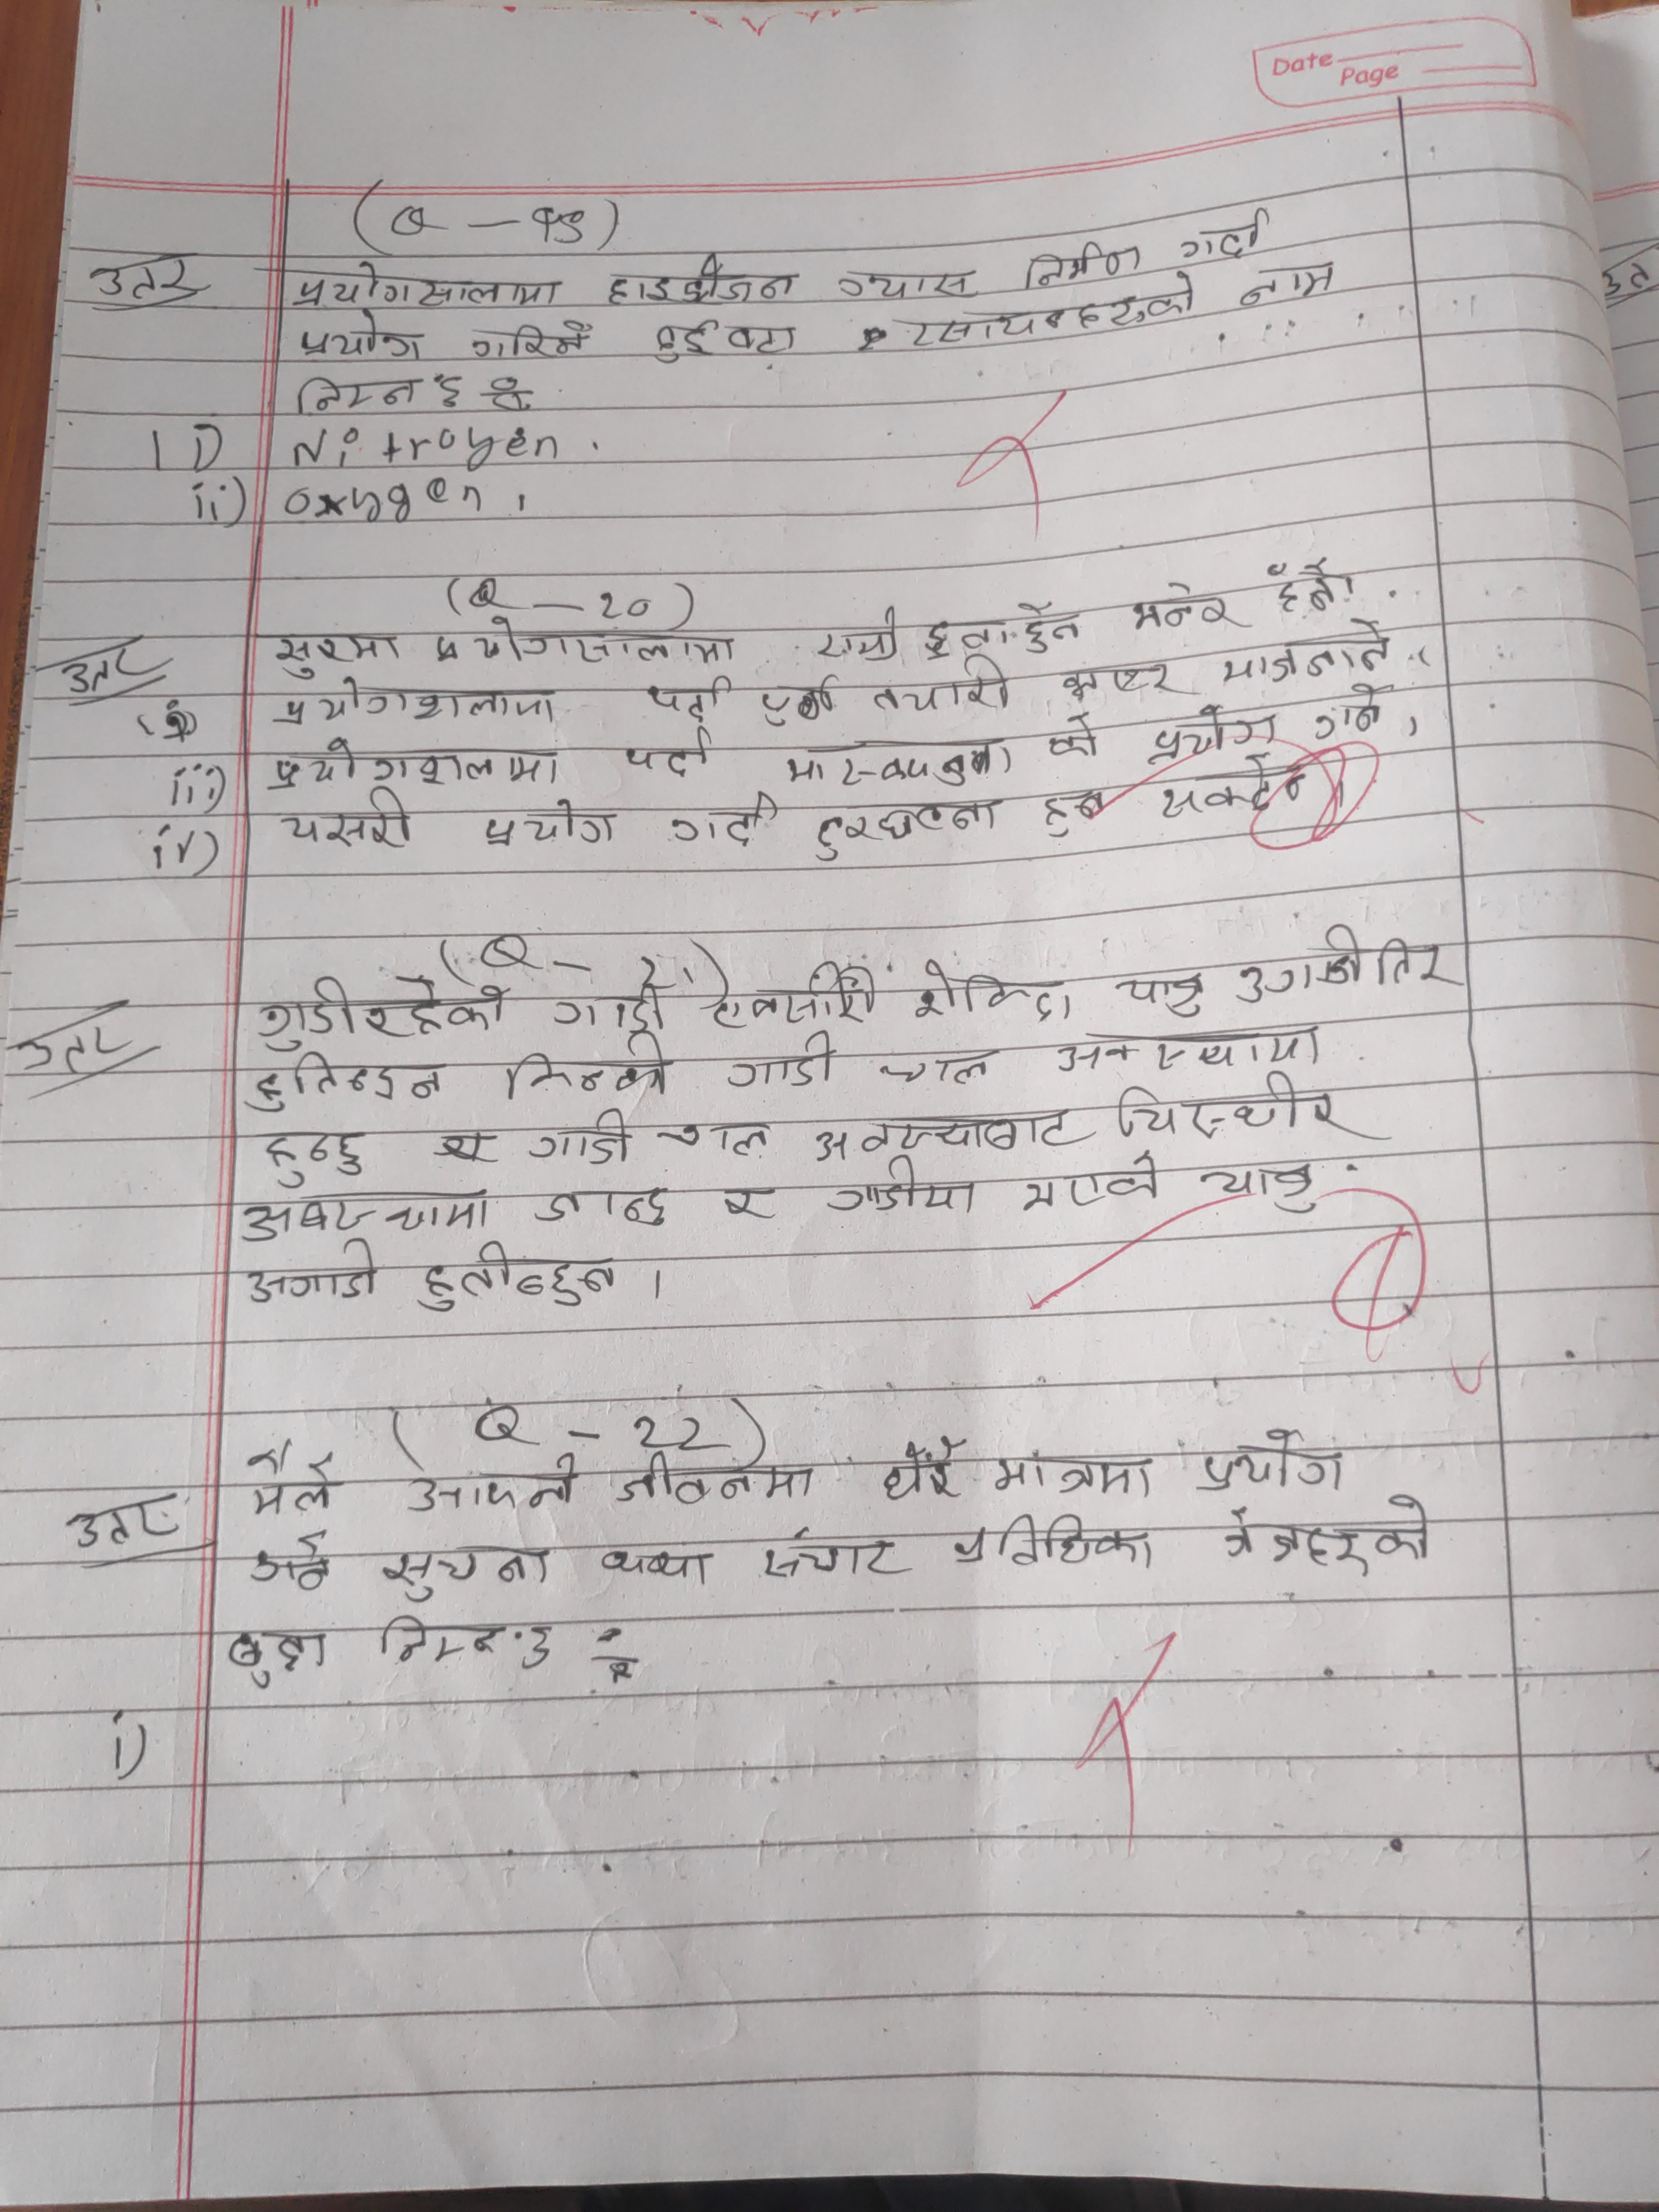text: (256, 974, 505, 1054), (1236, 920, 1464, 1003), (1218, 1491, 1432, 1578), (1114, 1071, 1370, 1143), (892, 298, 1204, 354), (263, 735, 563, 791), (430, 618, 739, 671), (416, 1237, 617, 1310), (274, 678, 563, 728), (286, 261, 563, 314), (775, 732, 1014, 791), (500, 1029, 676, 1104), (1044, 1026, 1328, 1071), (807, 1113, 1091, 1158), (807, 799, 1007, 860), (247, 1054, 448, 1115), (946, 1512, 1152, 1571), (615, 1449, 817, 1508), (240, 1191, 491, 1238), (908, 956, 1079, 1024), (1216, 624, 1396, 685), (706, 963, 880, 1026), (598, 253, 800, 307), (406, 1453, 580, 1514), (1194, 1426, 1345, 1494), (376, 1548, 558, 1604), (823, 1155, 981, 1217), (12, 995, 129, 1076), (1154, 759, 1305, 822), (275, 791, 415, 855), (479, 791, 622, 852), (1021, 1153, 1164, 1214), (756, 1526, 903, 1585), (246, 1245, 383, 1308), (985, 1449, 1154, 1500), (225, 1618, 338, 1693), (1190, 1160, 1324, 1221), (871, 660, 1014, 716), (298, 308, 425, 369), (1150, 705, 1283, 763), (249, 1440, 342, 1522), (652, 312, 800, 362), (376, 1609, 502, 1669), (1009, 237, 1143, 291), (725, 1029, 843, 1090), (268, 629, 406, 681), (260, 1127, 373, 1188), (532, 1181, 674, 1228), (1129, 580, 1244, 637), (530, 1106, 634, 1169), (64, 1493, 179, 1548), (666, 791, 767, 852), (828, 261, 974, 303), (599, 1541, 716, 1594), (545, 984, 671, 1029), (251, 1526, 335, 1594), (289, 371, 418, 415), (619, 723, 716, 780), (880, 1435, 960, 1505), (810, 606, 904, 665), (1175, 204, 1274, 260), (92, 253, 192, 308), (636, 669, 730, 726), (880, 1045, 999, 1089), (465, 320, 589, 361), (1011, 596, 1089, 658), (52, 643, 148, 693), (1236, 261, 1342, 307), (659, 1116, 774, 1158), (1114, 968, 1208, 1019), (1054, 664, 1180, 700), (918, 613, 1014, 660), (1312, 681, 1385, 742), (756, 676, 838, 730), (1263, 556, 1340, 613), (1039, 780, 1107, 840), (1044, 711, 1105, 759), (720, 1183, 775, 1224), (519, 1623, 558, 1672), (430, 371, 469, 413)
